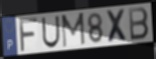8: (85, 12, 105, 44)
B: (127, 6, 150, 42)
F: (18, 17, 39, 54)
M: (60, 11, 87, 49)
U: (40, 15, 61, 50)
X: (105, 8, 130, 44)
